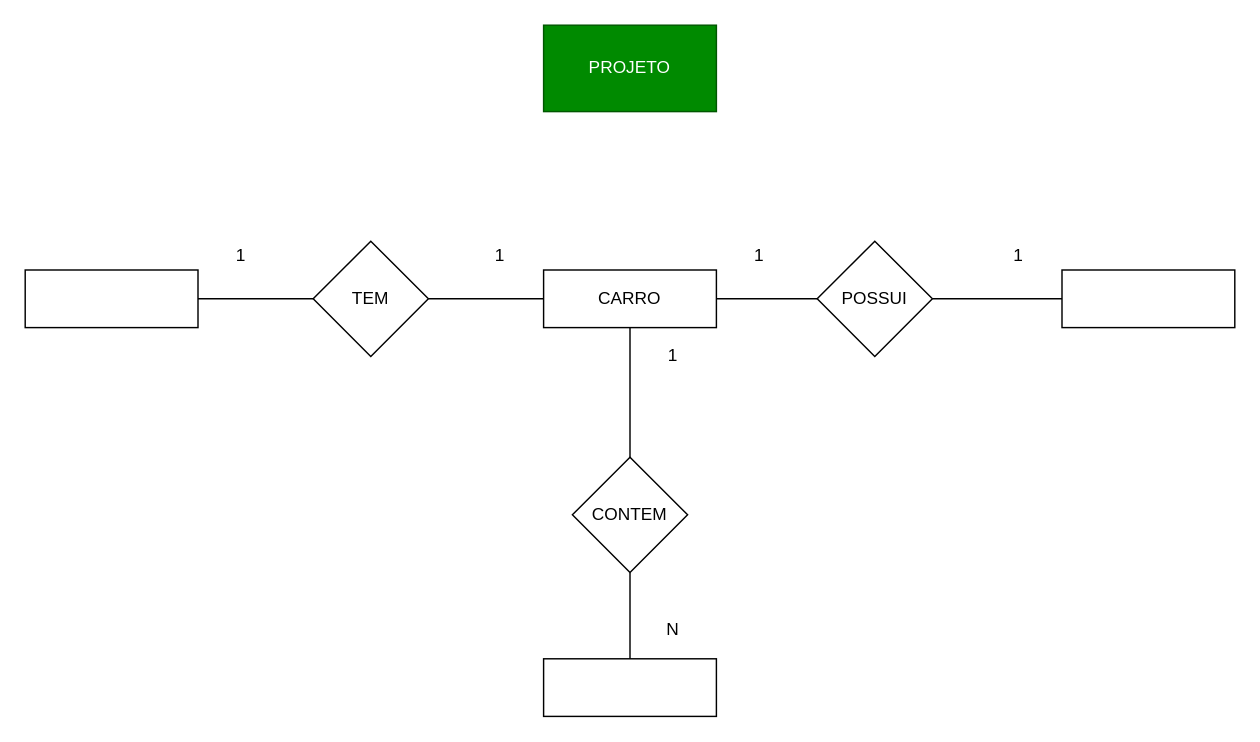
The diagram is 1260 pixels wide and 742 high, and some of its shapes have lost their labels. The centre of each missing label's shape, as x and y in pixels:
"CLIENTE" goes at (111,298).
"COR" goes at (629,686).
"MARCA" goes at (1148,298).
